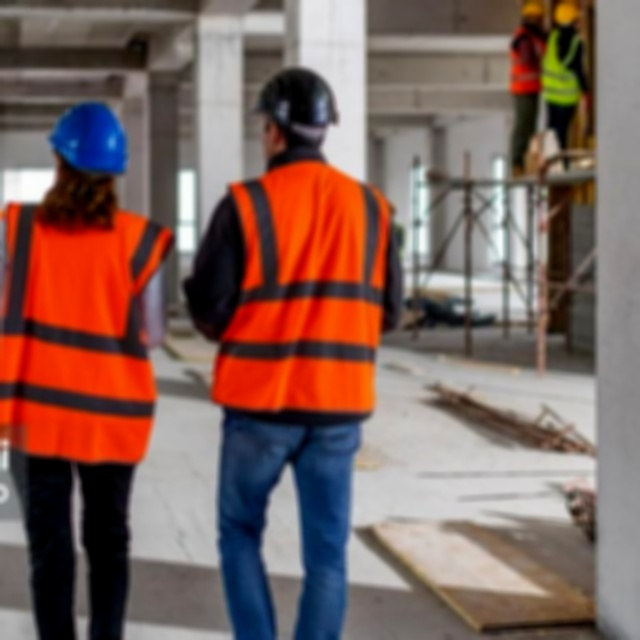Con_Casco: (44, 99, 128, 194)
Con_Chaleco: (0, 196, 175, 453), (214, 162, 386, 405)
